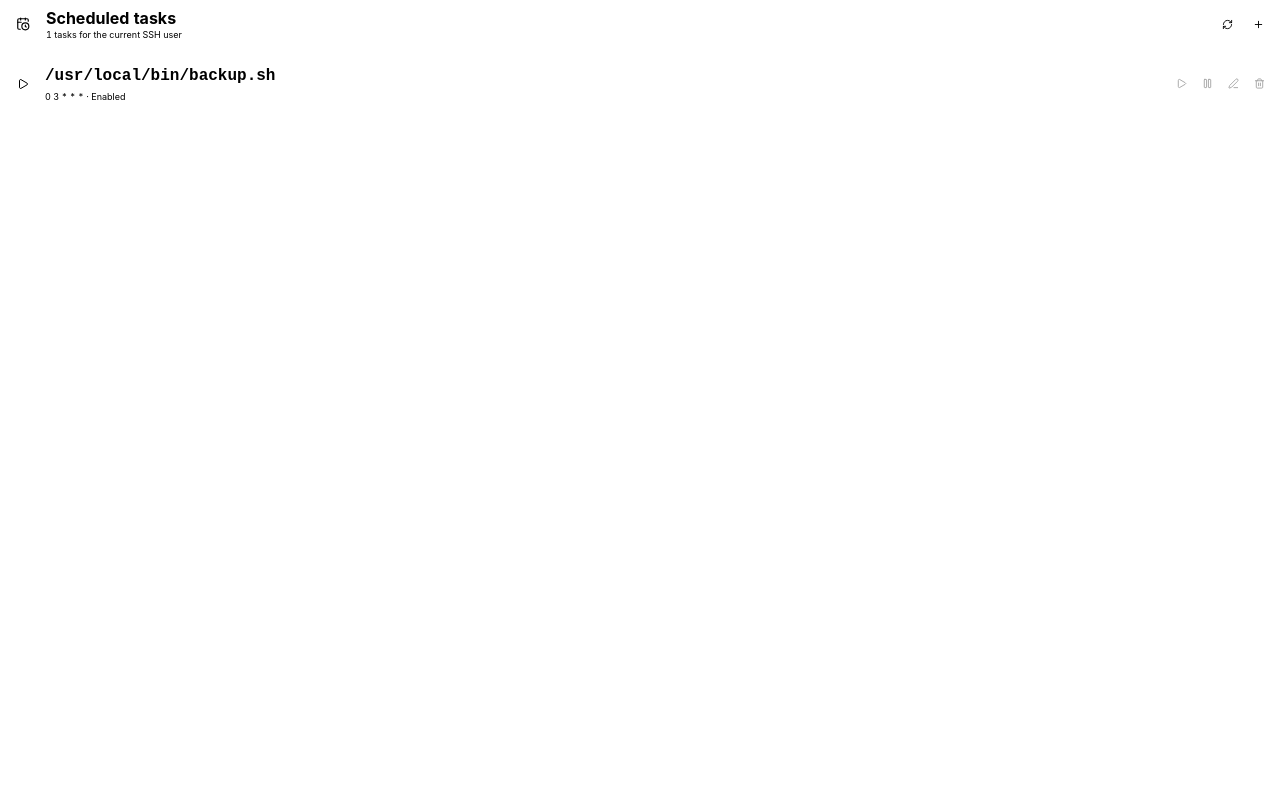
CronPanel discard prompt › asks before closing a dirty draft, and closes only when told to
Click the button titled "Edit task" at (1233,84), box top-left (1221, 72), bottom-right (1245, 96)
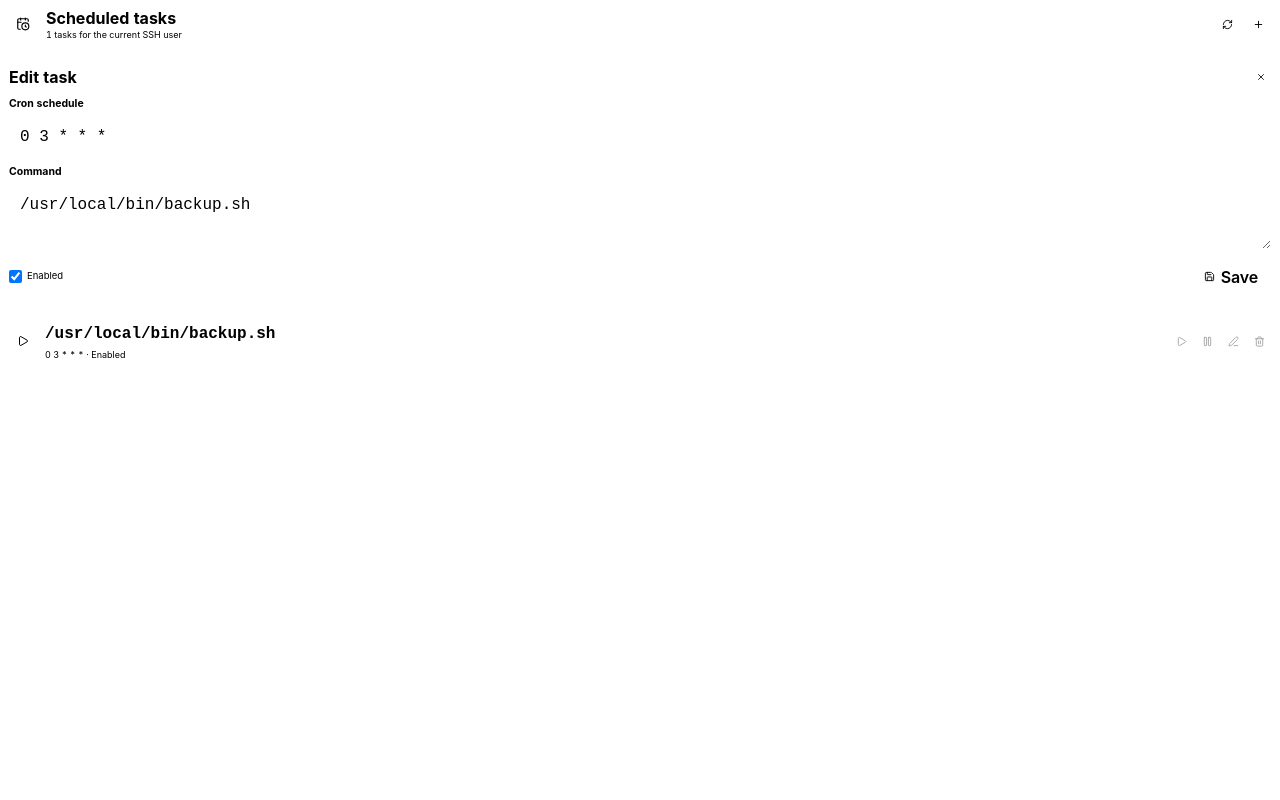
Result: the text box with class "admin-command-input" holds "/usr/local/bin/backup.sh"
Type "/opt/new-backup.sh" into the text box with class "admin-command-input" at (640,216), box top-left (9, 184), bottom-right (1271, 248)
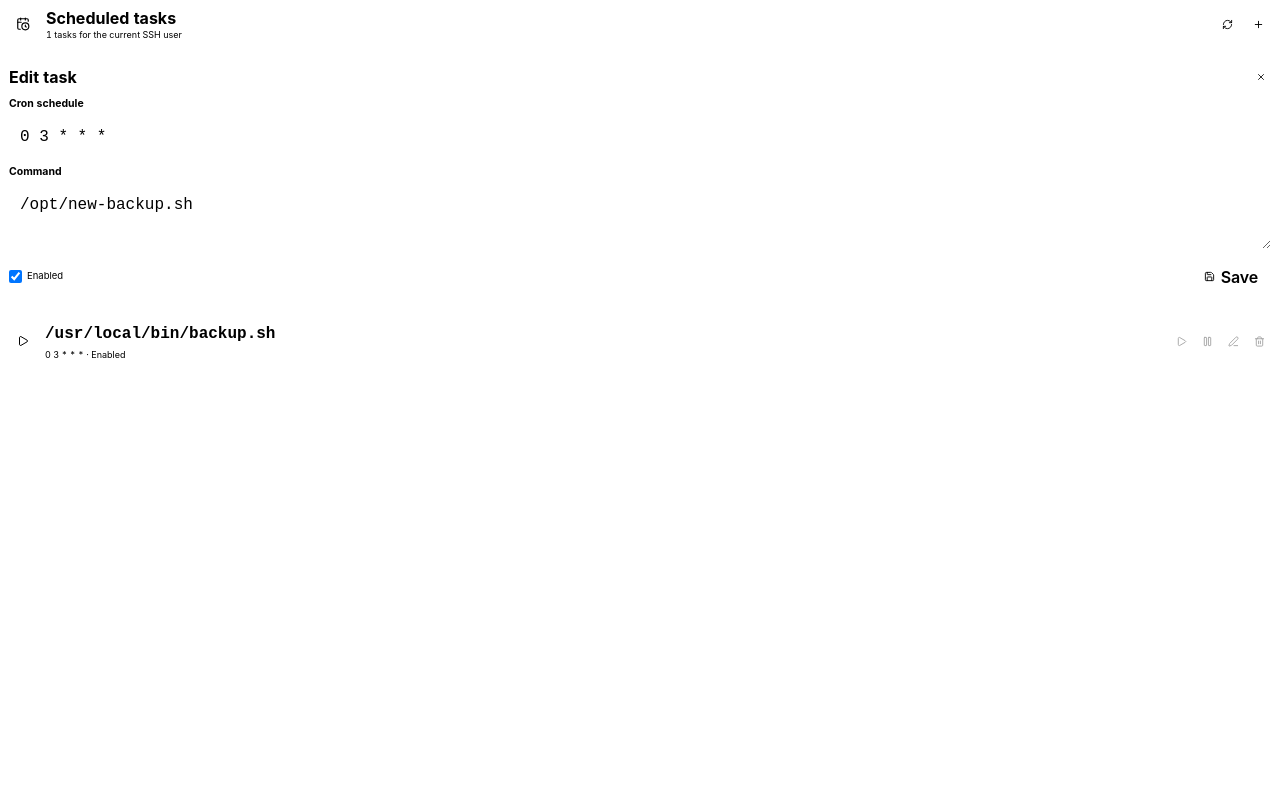
Click the button titled "Close" at (1261,77), box top-left (1251, 67), bottom-right (1271, 87)
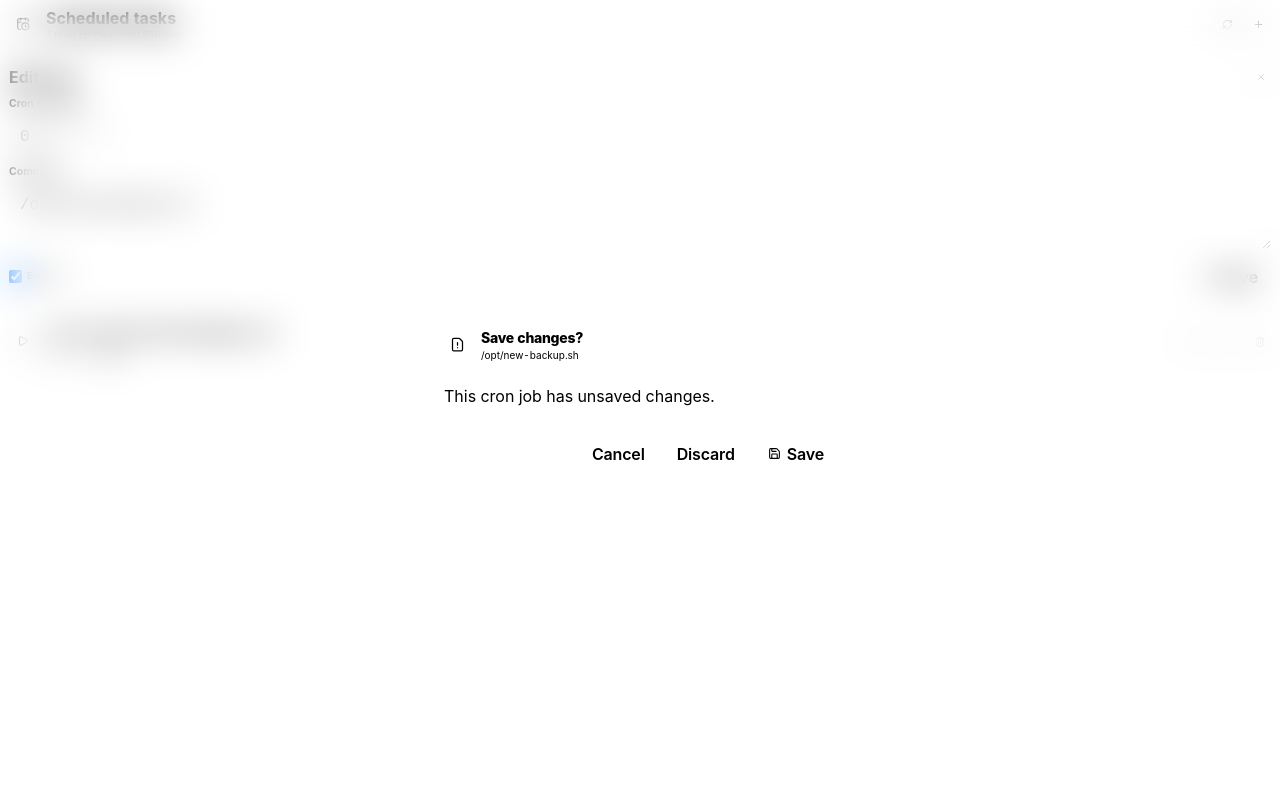
Click the button "Discard" at (706,454), box top-left (665, 434), bottom-right (747, 472)
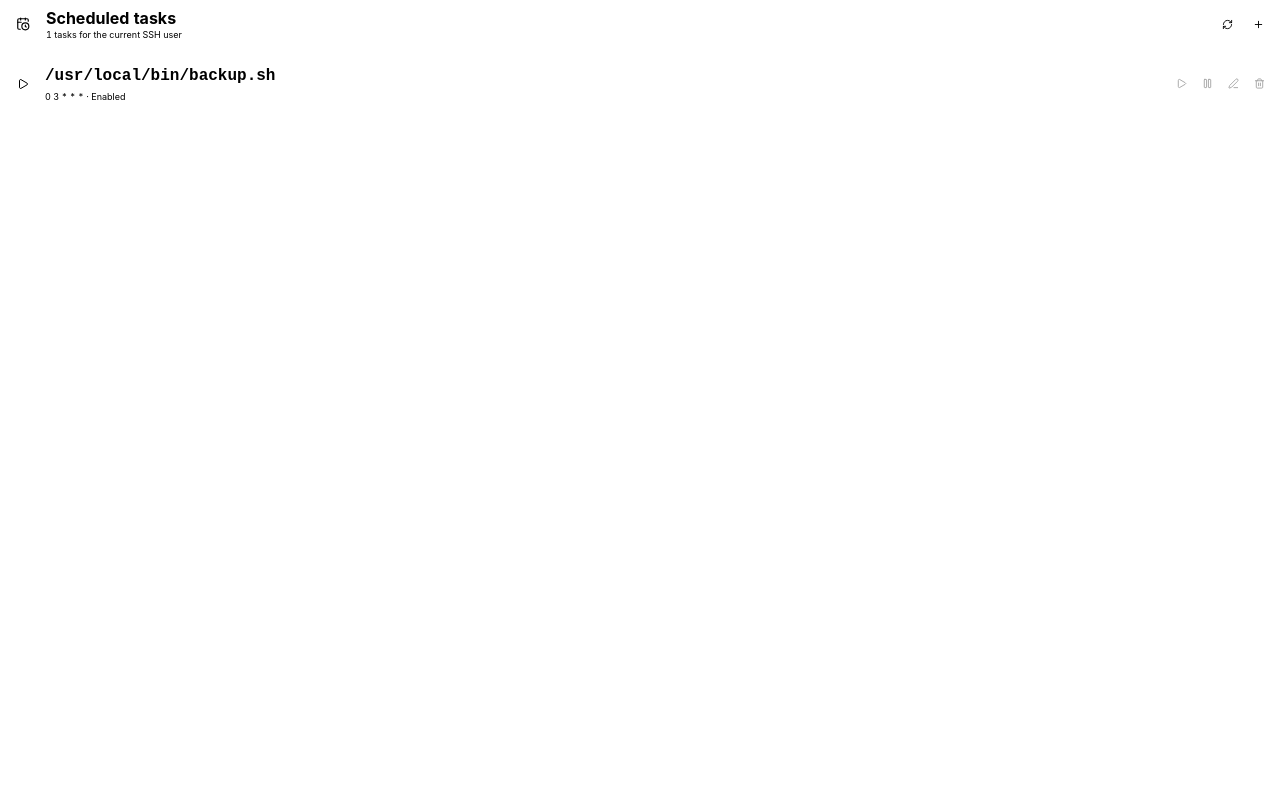
Result: the text box with class "admin-command-input" is gone
